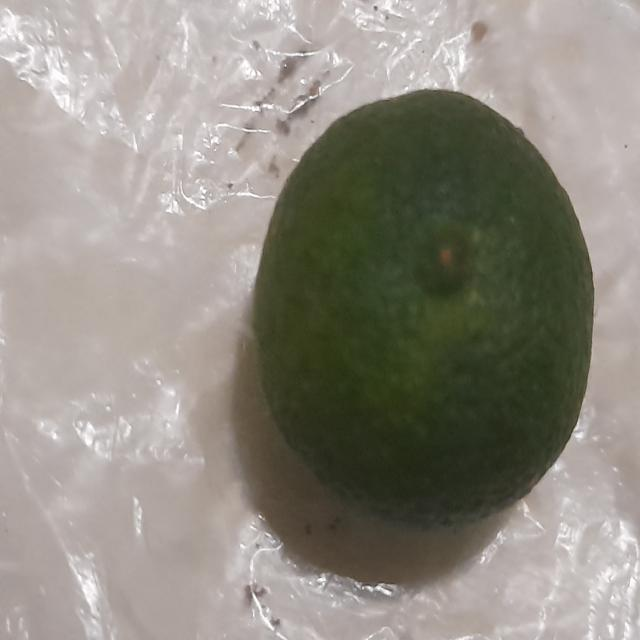heathy: (247, 82, 600, 528)
